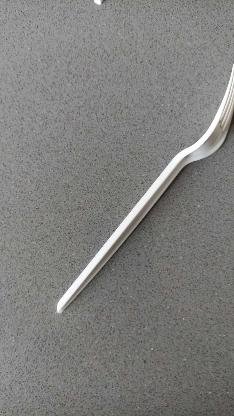Others: (50, 59, 234, 349)
